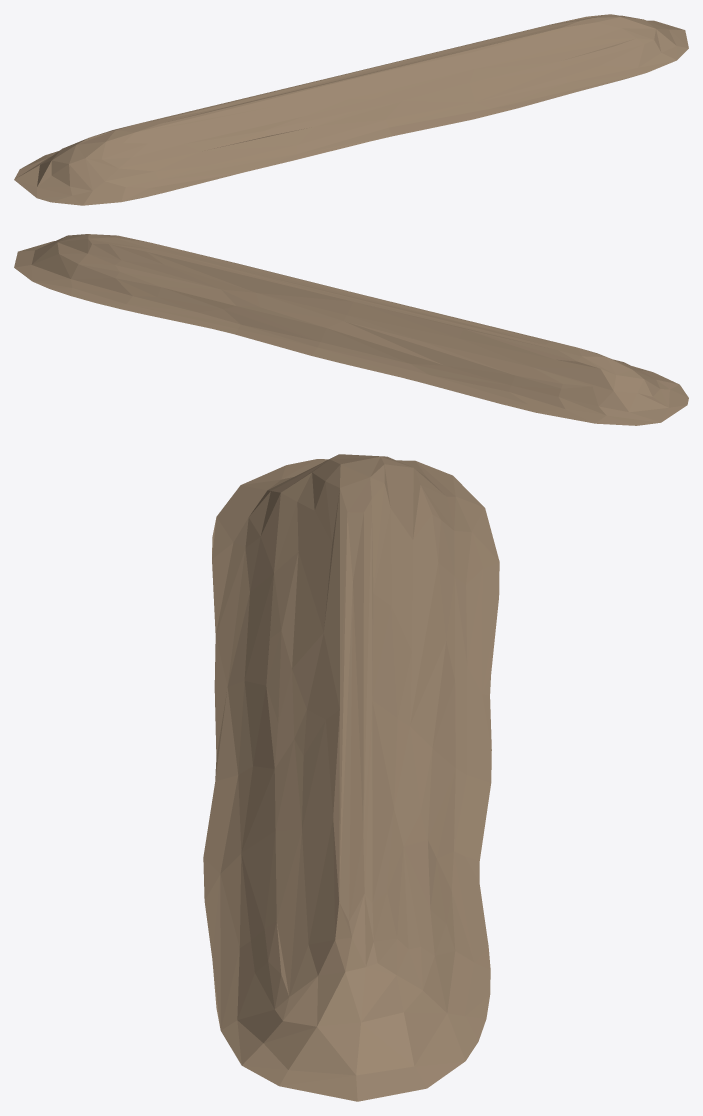
Rendered from SM_Prop_Barrier_Base_Dirt_02.glb.
3 views of the same model, one above another, from view 1: azimuth 30°, elevation 25°; view 2: azimuth 150°, elevation 25°; view 3: azimuth 270°, elevation 25° (orthographic). The views are drawn at different scales.
Visible parts, largest first — view 1: SM_Prop_Barrier_Base_Dirt_02; view 2: SM_Prop_Barrier_Base_Dirt_02; view 3: SM_Prop_Barrier_Base_Dirt_02.
Boxes of the visible parts, x1=… form: SM_Prop_Barrier_Base_Dirt_02: x1=14, y1=14, x2=688, y2=205; SM_Prop_Barrier_Base_Dirt_02: x1=14, y1=234, x2=688, y2=425; SM_Prop_Barrier_Base_Dirt_02: x1=203, y1=454, x2=499, y2=1101.
Bounding box in the file's own units: 12.39 × 0.6637 × 2.41.
Materials: 1 (1 with a texture image).
